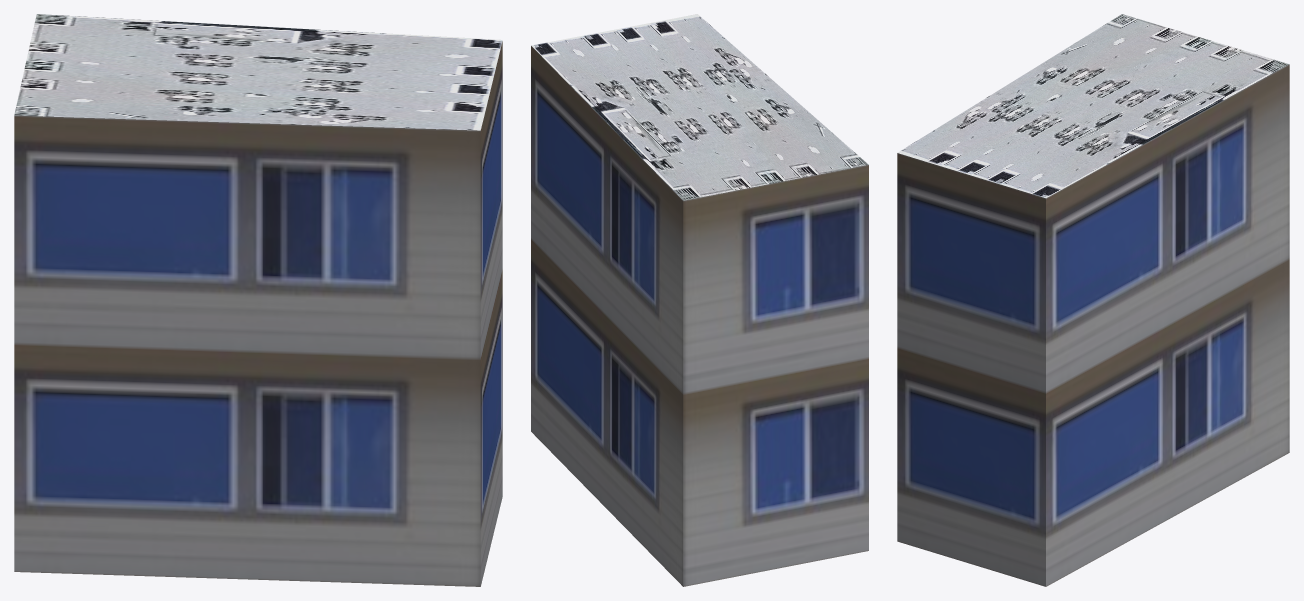
File: ResTex__946.fbx
3 views of the same model, side by side, from view 1: azimuth 30°, elevation 25°; view 2: azimuth 150°, elevation 25°; view 3: azimuth 270°, elevation 25° (orthographic). The views are drawn at different scales.
Visible parts, largest first — view 1: CityEngineMaterial_23_m, CityEngineMaterial_8_m; view 2: CityEngineMaterial_23_m, CityEngineMaterial_8_m; view 3: CityEngineMaterial_23_m, CityEngineMaterial_8_m.
Part boxes in pixels (left/top/right/bottom): CityEngineMaterial_23_m: left=14, top=41, right=502, bottom=586; CityEngineMaterial_8_m: left=14, top=14, right=502, bottom=130; CityEngineMaterial_23_m: left=531, top=46, right=868, bottom=586; CityEngineMaterial_8_m: left=531, top=14, right=868, bottom=200; CityEngineMaterial_23_m: left=897, top=64, right=1289, bottom=586; CityEngineMaterial_8_m: left=897, top=14, right=1289, bottom=198.
Size of the model in its own units: 6.11 by 6 by 5.49.
Materials: 2 (2 with a texture image).
